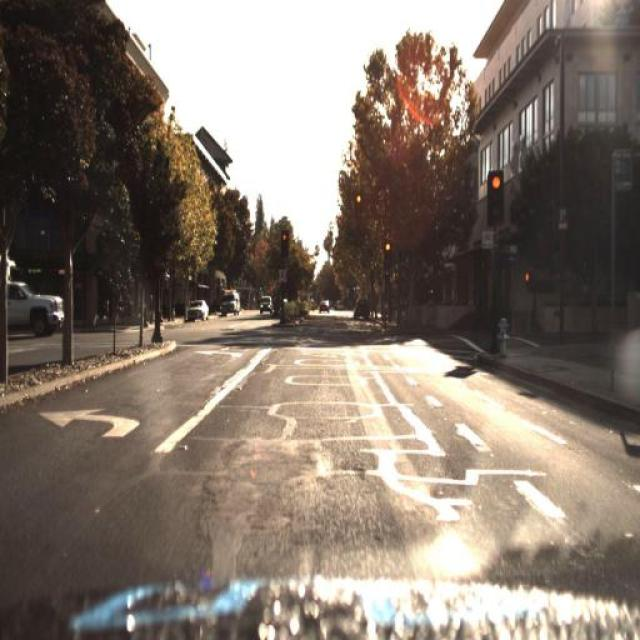car: (3, 249, 67, 351), (354, 292, 374, 322), (182, 303, 208, 326), (218, 288, 241, 314), (259, 293, 272, 315)
trafficLight-Green: (351, 190, 362, 216)
trafficLight-RedLeft: (490, 168, 504, 214)
trafficLight-Yellow: (280, 228, 290, 252)
trafficLight-YellowLeft: (384, 232, 394, 262)
